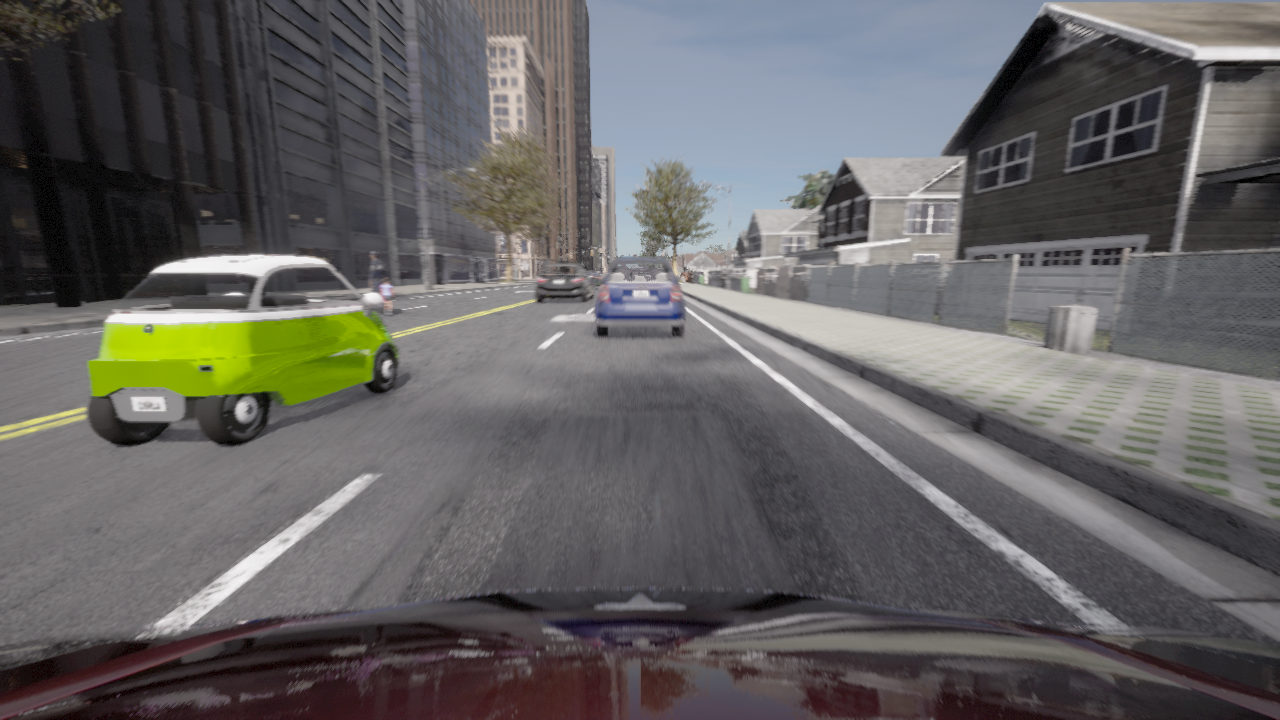cyclist: (0, 588, 1279, 719), (87, 254, 398, 444), (595, 257, 684, 336), (535, 263, 594, 302), (586, 270, 602, 286)
pedestrian: (369, 251, 385, 313), (381, 278, 393, 315), (338, 265, 342, 275), (948, 259, 952, 266)
